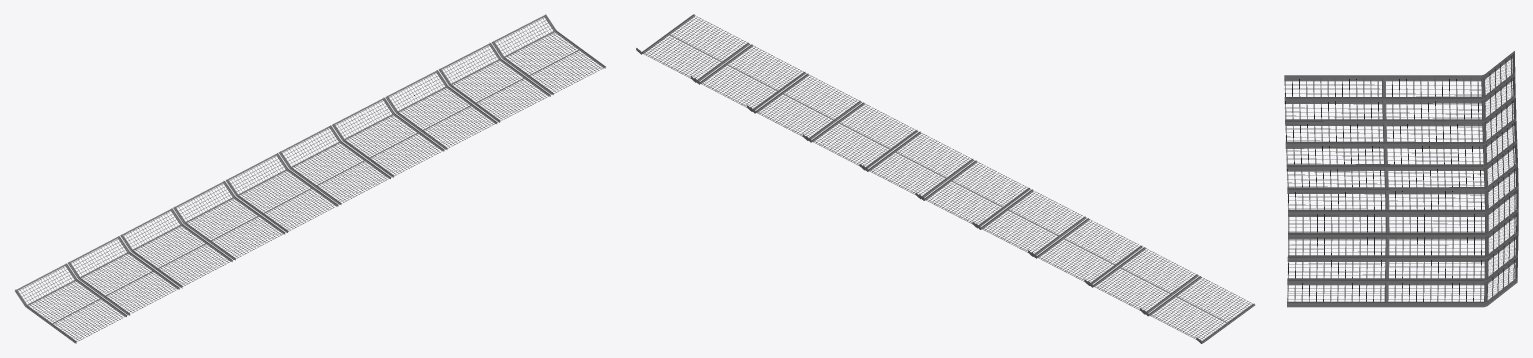
The model's file is TrackLimits.018.obj.
The picture shows the model from 3 angles, left to right: view 1: azimuth 30°, elevation 25°; view 2: azimuth 150°, elevation 25°; view 3: azimuth 270°, elevation 25°; orthographic projection. The views are drawn at different scales.
Parts seen in each view (by area): view 1: TrackLimits.018_Scene.416; view 2: TrackLimits.018_Scene.416; view 3: TrackLimits.018_Scene.416.
Boxes of the visible parts, x1,y1,x2,y2 form: TrackLimits.018_Scene.416: (15,14,605,343); TrackLimits.018_Scene.416: (636,14,1255,343); TrackLimits.018_Scene.416: (1284,51,1518,307).
Size of the model in its own units: 1953 by 554 by 371.
